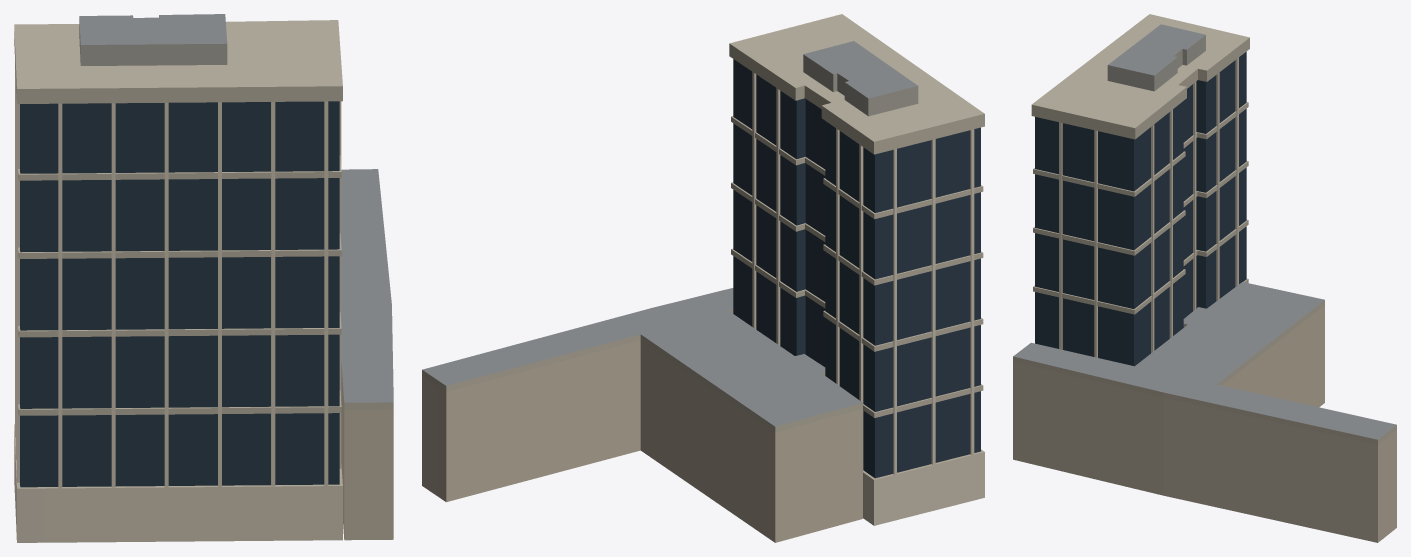
The model's file is bldg_w544016673.glb.
3 views of the same model, side by side, from view 1: azimuth 30°, elevation 25°; view 2: azimuth 150°, elevation 25°; view 3: azimuth 270°, elevation 25° (orthographic). The views are drawn at different scales.
Parts seen in each view (by area): view 1: Bldg_w544016673; view 2: Bldg_w544016673; view 3: Bldg_w544016673.
Boxes of the visible parts, x1,y1,x2,y2 form: Bldg_w544016673: [14, 14, 393, 542]; Bldg_w544016673: [422, 14, 984, 542]; Bldg_w544016673: [1013, 14, 1396, 542].
Bounding box in the file's own units: 89.1 × 78.8 × 76.83.
